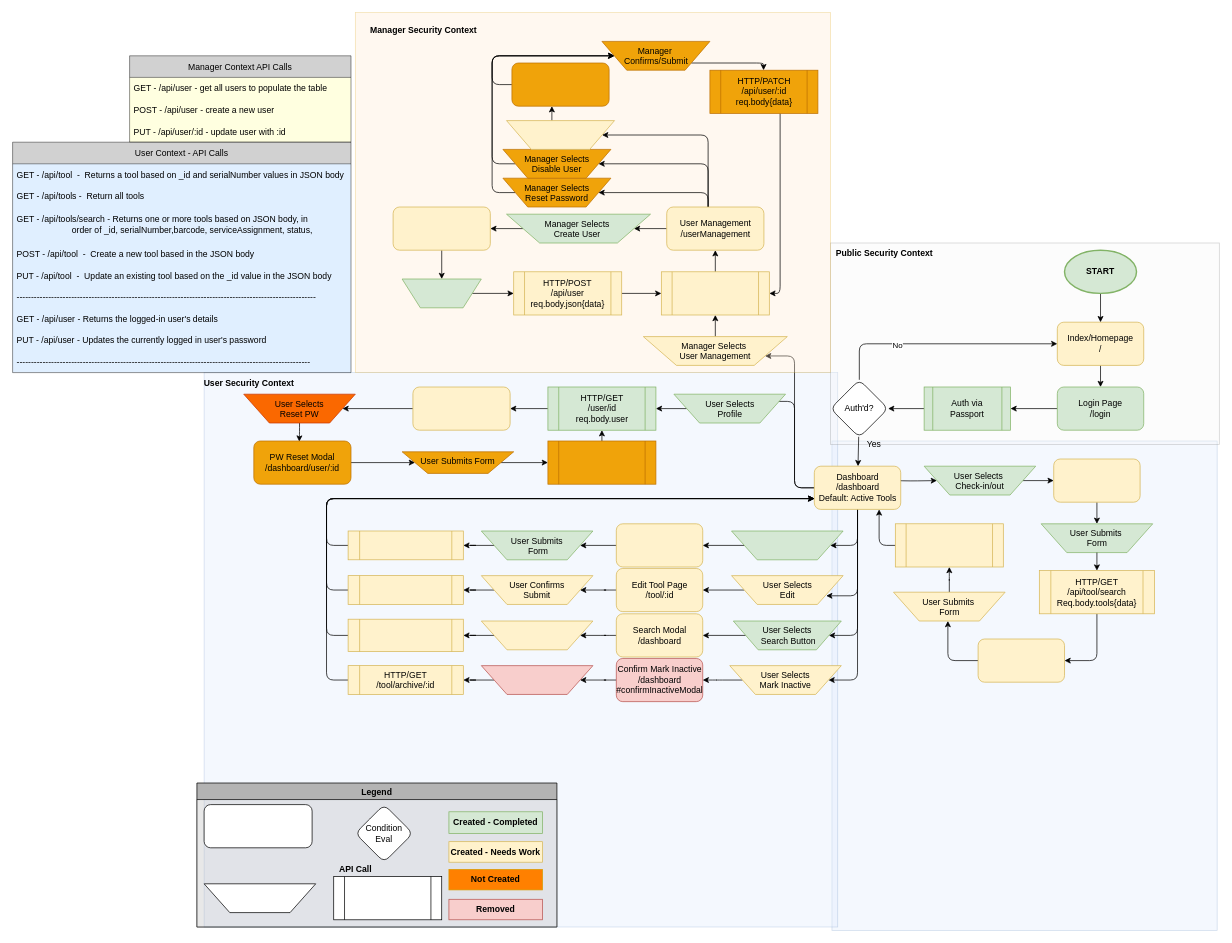
This 1232x943 diagram has some shape labels left out. The shapes that lost their labels are listed below. From the top down, each one's centre as x and y in pixels, then its label:
At (x=560, y=84): "Edit User Modal /userManagement".
At (x=560, y=134): "Manager Selects Edit User".
At (x=441, y=228): "Create User Modal /userManagement".
At (x=441, y=293): "Manager Submits".
At (x=715, y=293): "HTTP/GET /api/user req.body.json{data}".
At (x=461, y=408): "User Profile /dashboard/user/:id".
At (x=601, y=462): "HTTP/PATCH /api/user req.body.json{data}".
At (x=1096, y=480): "Check-In/Out Modal /dashboard".
At (x=405, y=545): "HTTP/POST /api/tool/submit".
At (x=659, y=545): "Create Tool Modal /dashboard".
At (x=787, y=545): "User Selects Create New".
At (x=949, y=545): "HTTP/PUT /api/tool Req.body.tools".
At (x=405, y=589): "HTTP/POST /tool/:id".
At (x=405, y=635): "HTTP/POST /dashboard".
At (x=537, y=635): "User Submits Search".
At (x=537, y=679): "User Confirms Mark Inactive".
At (x=1021, y=660): "Check-in/Out Confirm Modal".
At (x=257, y=826): "Page/Modal Name /url/endpoint".
At (x=259, y=898): "User Interaction or Decision".
At (x=387, y=898): "HTTP/METHOD /api/endpoint req.body.{dataObj}".
